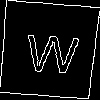W: (24, 25, 81, 75)
